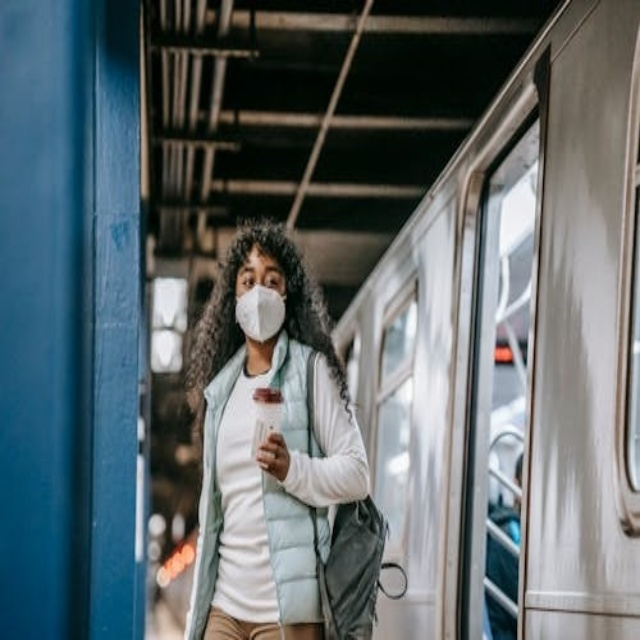Mascara: (234, 285, 287, 343)
Sin_gafas: (232, 263, 283, 286)
Sin_guantes: (254, 432, 291, 486)
